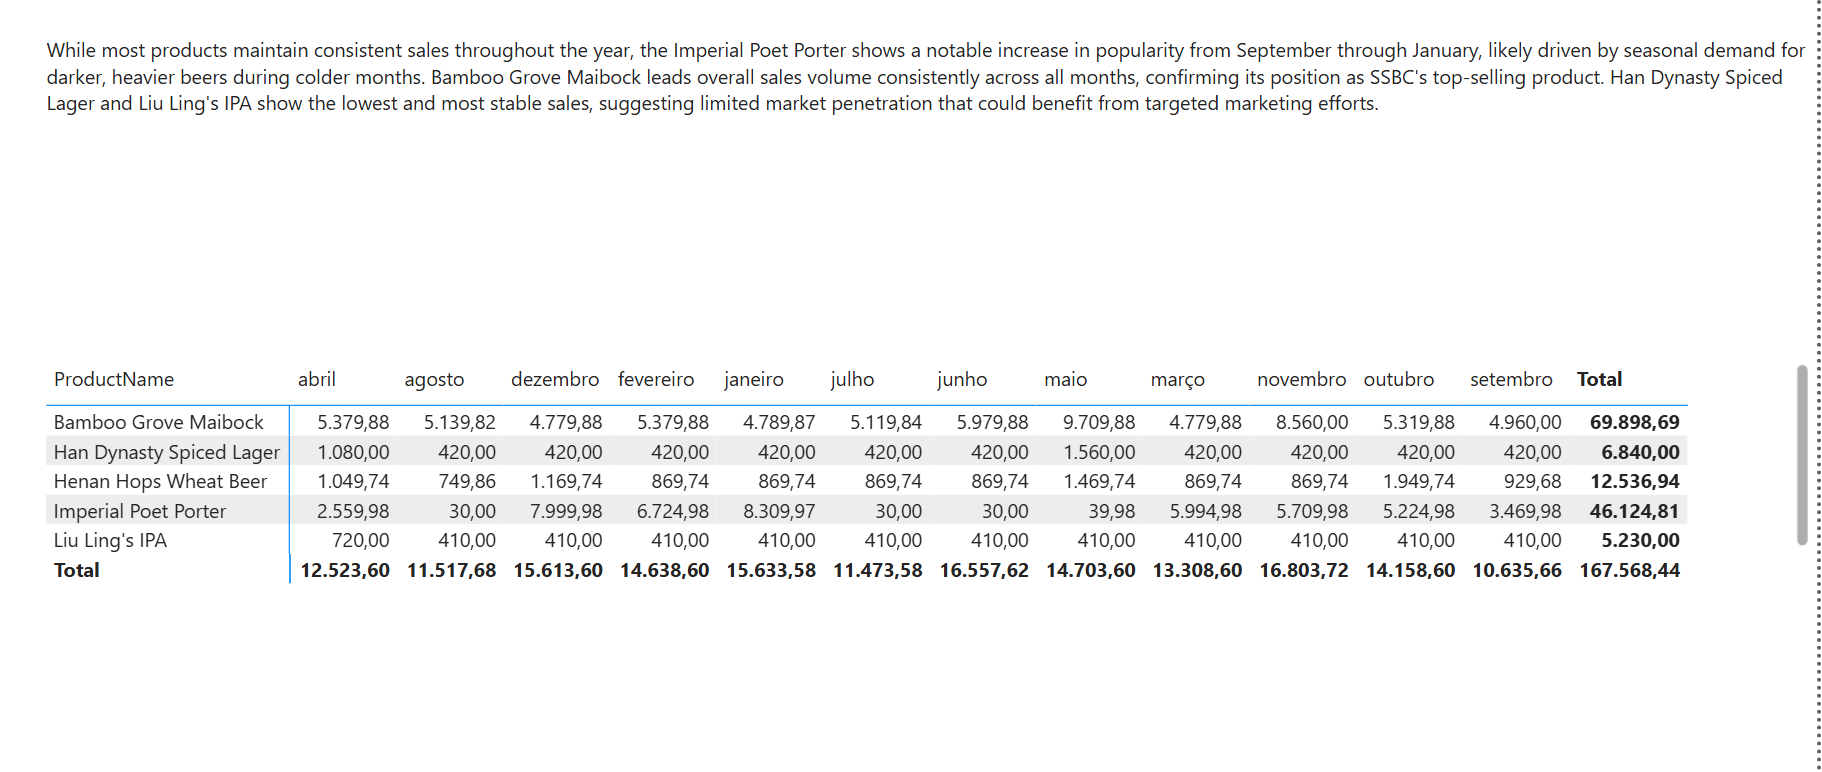

The dashboard page shown, as its layout file describes it:
{"tool":"powerbi","page":{"name":"SO2 - Seasonality","canvas":[1280,720],"ordinal":3},"visuals":[{"type":"pivotTable","fields":{"Rows":["Products.ProductName"],"Columns":["Date Table.Month Name"],"Values":["CFO_CostPrice.Sales USD"]},"box":[78.8,265.5,1201.2,158.5],"z":0},{"type":"textbox","box":[79,43.5,1201,159],"z":1000}]}

Visuals, with their boxes on the page's 1280x720 design canvas (x1, y1, x2, y2). These are canvas units, not pixel positions in the 1822x772 screenshot, which may show the page scaled, cropped or inside an application window:
pivotTable - Products.ProductName x Date Table.Month Name: 79:266:1280:424
textbox: 79:44:1280:202
